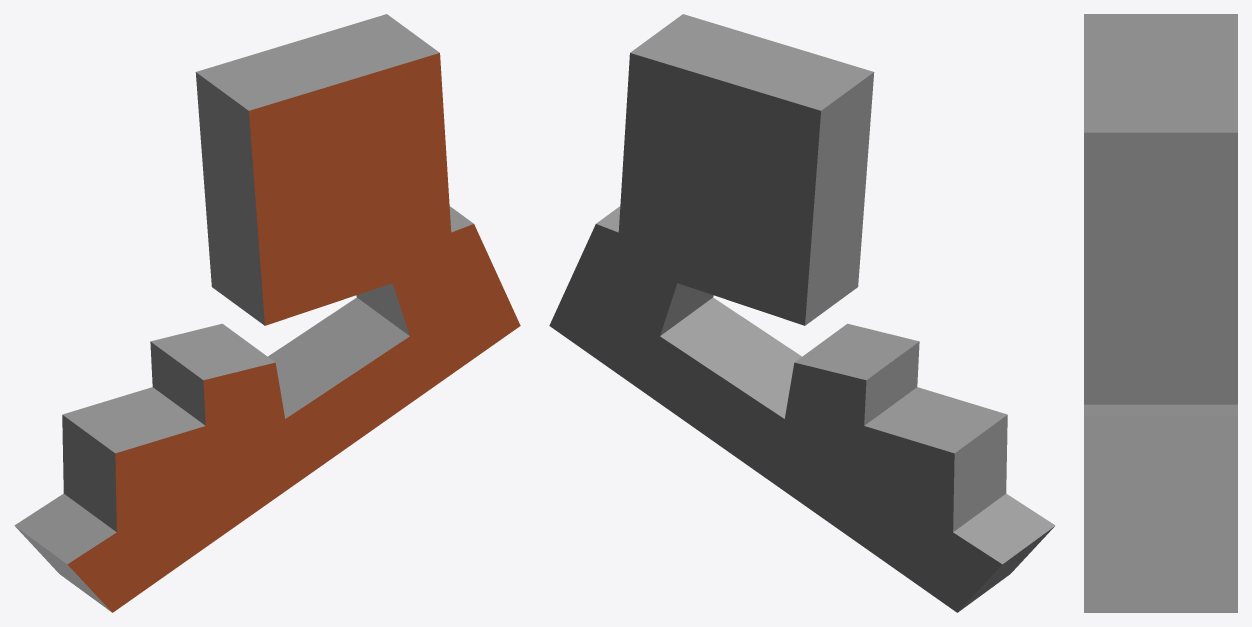
Rendered from construction_0648_assumed_A_Casa_h6m.obj.
3 views of the same model, side by side, from view 1: azimuth 30°, elevation 25°; view 2: azimuth 150°, elevation 25°; view 3: azimuth 270°, elevation 25° (orthographic). The views are drawn at different scales.
Visible parts, largest first — view 1: construction_0648_assumed_A_Casa; view 2: construction_0648_assumed_A_Casa; view 3: construction_0648_assumed_A_Casa.
Boxes of the visible parts, left/top/right/bottom form: construction_0648_assumed_A_Casa: left=14, top=14, right=520, bottom=612; construction_0648_assumed_A_Casa: left=549, top=14, right=1055, bottom=612; construction_0648_assumed_A_Casa: left=1084, top=14, right=1237, bottom=612.
Size of the model in its own units: 29.56 by 29.92 by 6.
